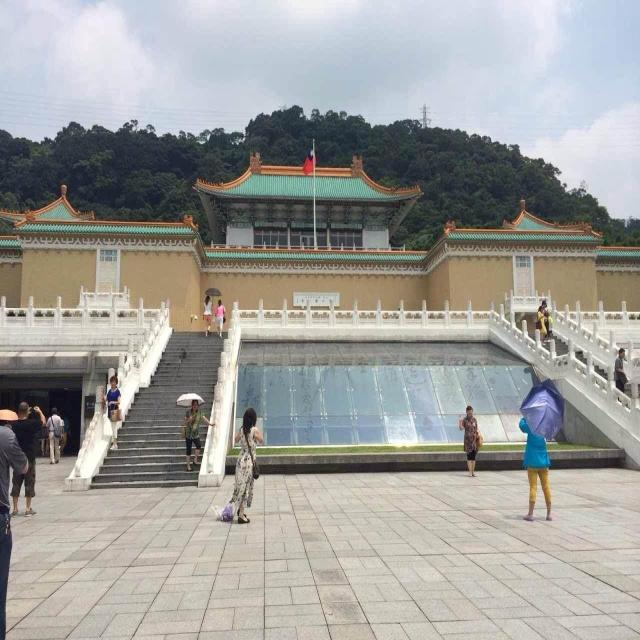non-fight: (515, 400, 559, 521), (221, 409, 265, 521), (181, 397, 212, 474), (458, 404, 484, 475), (44, 407, 67, 464), (106, 376, 122, 448)
